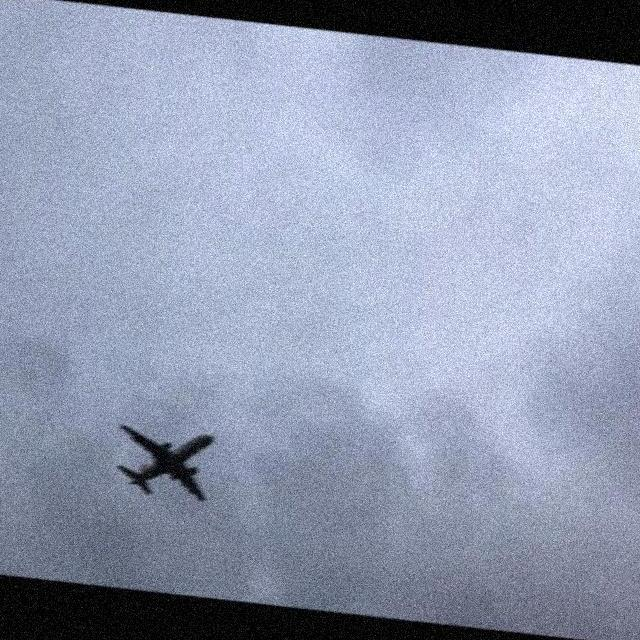airplane: (113, 417, 216, 506)
